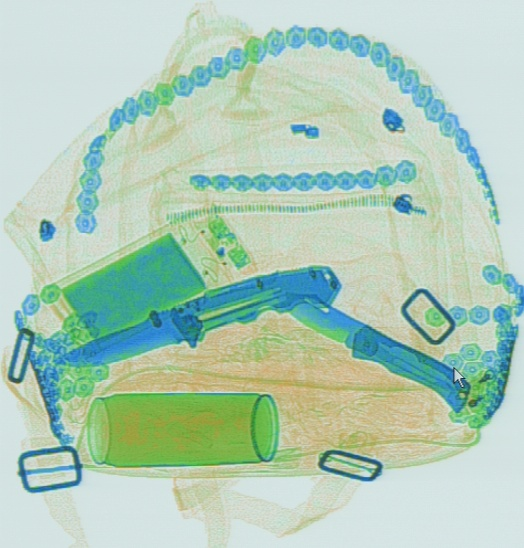knife: (51, 262, 342, 368), (268, 269, 470, 414)
lighter: (441, 354, 507, 419)
